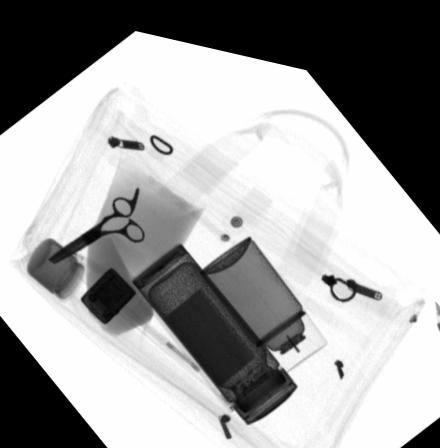Lighter: (78, 261, 136, 319)
Powerbank: (157, 271, 258, 379)
Scissors: (49, 178, 146, 261)
Sprayer: (200, 224, 327, 359)
